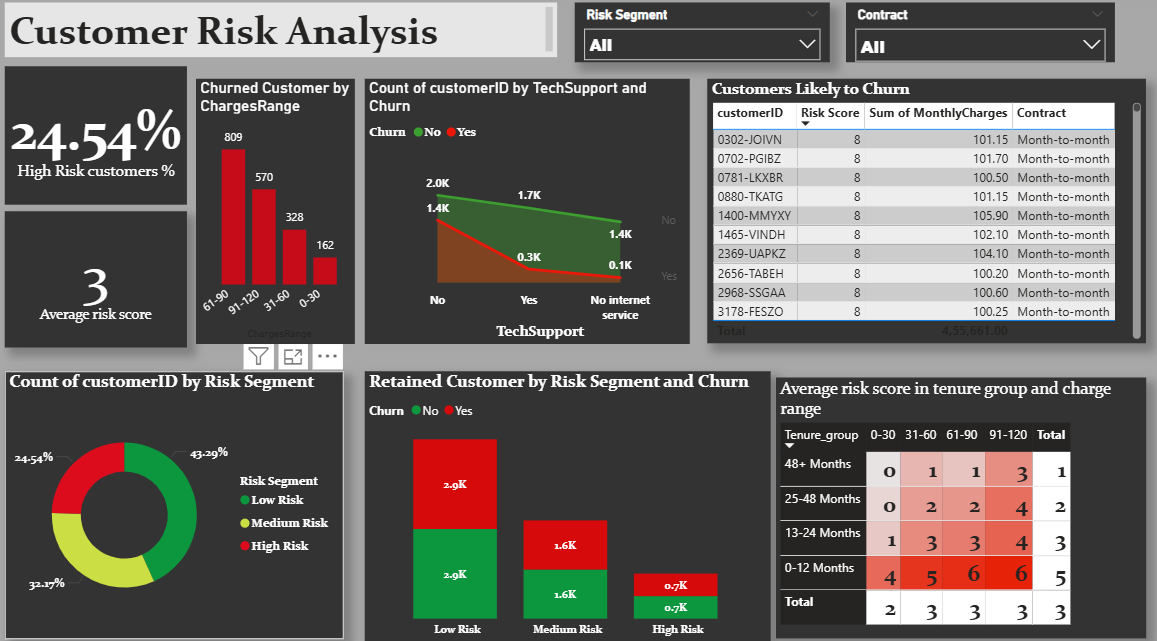

The dashboard page shown, as its layout file describes it:
{"tool":"powerbi","page":{"name":"Customer risk analysis","canvas":[1280,720],"ordinal":1},"visuals":[{"type":"donutChart","fields":{"Category":["Telco-Customer-Churn.Risk Segment"],"Y":["CountNonNull(Telco-Customer-Churn.customerID)"]},"box":[9.6,413,371.9,293.7],"z":0},{"type":"columnChart","fields":{"Category":["Telco-Customer-Churn.Risk Segment"],"Series":["Telco-Customer-Churn.Churn"],"Y":["Telco-Customer-Churn.Retained Customer"]},"box":[404.8,413,446,300.5],"z":1000},{"type":"tableEx","title":"Customers Likely to Churn","fields":{"Values":["Telco-Customer-Churn.customerID","Telco-Customer-Churn.Risk Score","Sum(Telco-Customer-Churn.MonthlyCharges)","Telco-Customer-Churn.Contract"]},"box":[780.6,91.7,481.4,290.8],"z":2000},{"type":"pivotTable","title":"Average risk score in tenure group and charge range","fields":{"Columns":["Telco-Customer-Churn.ChargesRange"],"Values":["Telco-Customer-Churn.Average risk score"],"Rows":["Telco-Customer-Churn.Tenure_group"]},"box":[856.3,419.9,406.2,286.8],"z":3000},{"type":"card","fields":{"Values":["Telco-Customer-Churn.High Risk customers %"]},"box":[9.6,78.2,200.3,152.3],"z":4000},{"type":"card","fields":{"Values":["Telco-Customer-Churn.Average risk score"]},"box":[9.6,237.4,200.3,149.6],"z":5000},{"type":"slicer","fields":{"Values":["Telco-Customer-Churn.Risk Segment"]},"box":[635.3,8.2,279.9,65.9],"z":6000},{"type":"slicer","fields":{"Values":["Telco-Customer-Churn.Contract"]},"box":[933.1,8.2,295,65.9],"z":7000},{"type":"textbox","box":[9.6,8.2,606.5,60.4],"z":8000},{"type":"areaChart","fields":{"Category":["Telco-Customer-Churn.TechSupport"],"Y":["CountNonNull(Telco-Customer-Churn.customerID)"],"Series":["Telco-Customer-Churn.Churn"]},"box":[404.8,91.9,356.8,290.9],"z":9000},{"type":"columnChart","fields":{"Category":["Telco-Customer-Churn.ChargesRange"],"Y":["Telco-Customer-Churn.Churned Customer"]},"box":[219.6,91.9,174.3,290.9],"z":10000}]}

Visuals, with their boxes in screenshot pixels (x1, y1, x2, y2), scaled from the page's 1280x720 canvas onto the 1157x641 screenshot:
donutChart - Telco-Customer-Churn.Risk Segment x CountNonNull(Telco-Customer-Churn.customerID): Rect(9, 368, 345, 629)
columnChart - Telco-Customer-Churn.Risk Segment x Telco-Customer-Churn.Churn: Rect(366, 368, 769, 635)
"Customers Likely to Churn" tableEx: Rect(706, 82, 1141, 341)
"Average risk score in tenure group and charge range" pivotTable: Rect(774, 374, 1141, 629)
card - Telco-Customer-Churn.High Risk customers %: Rect(9, 70, 190, 205)
card - Telco-Customer-Churn.Average risk score: Rect(9, 211, 190, 345)
slicer - Telco-Customer-Churn.Risk Segment: Rect(574, 7, 827, 66)
slicer - Telco-Customer-Churn.Contract: Rect(843, 7, 1110, 66)
textbox: Rect(9, 7, 557, 61)
areaChart - Telco-Customer-Churn.TechSupport x CountNonNull(Telco-Customer-Churn.customerID): Rect(366, 82, 688, 341)
columnChart - Telco-Customer-Churn.ChargesRange x Telco-Customer-Churn.Churned Customer: Rect(198, 82, 356, 341)
